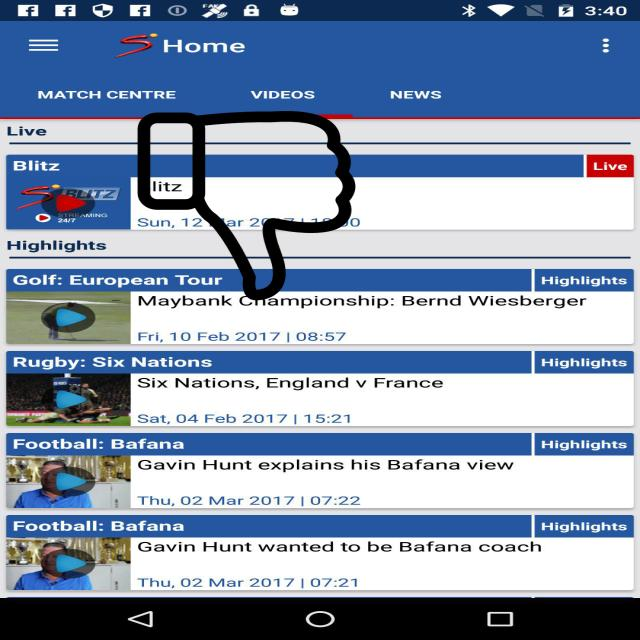obstruction: (134, 111, 358, 300)
